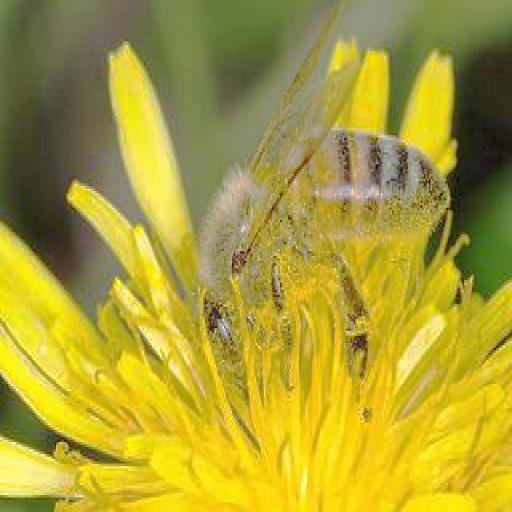daisy: (2, 2, 496, 512)
